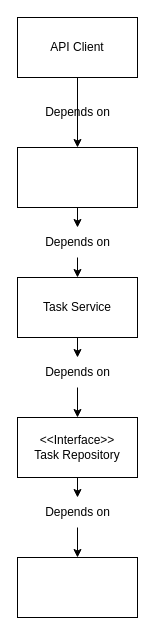
Image size: 155x635. Some labels were removed from this diagram. The centre of each missing label's shape, as x and y in pixels:
InMemory Task Repository: the point at 77,587
Task Controller: the point at 77,177
